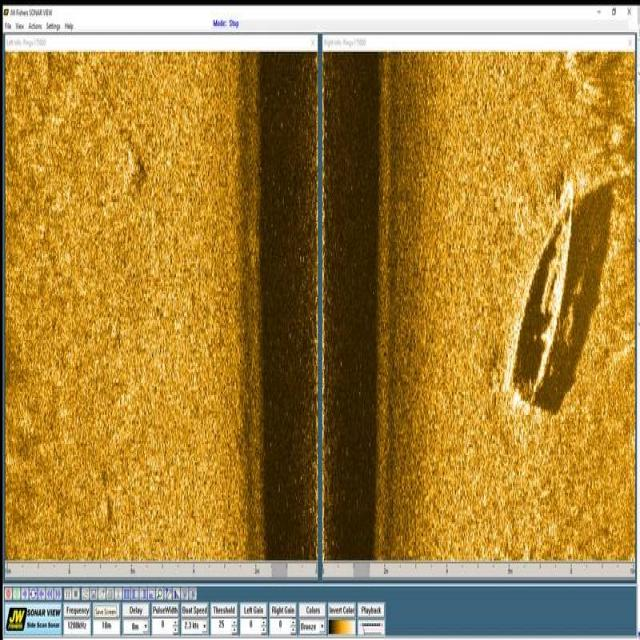ship: (499, 170, 578, 413)
